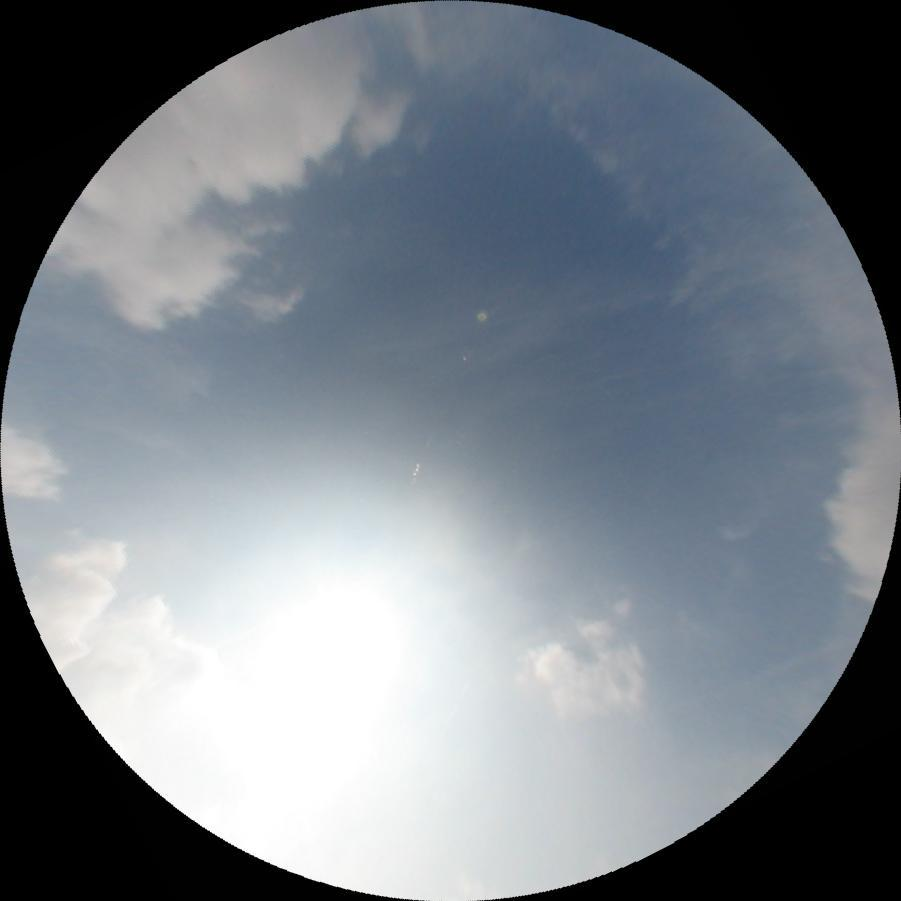sun: (227, 563, 456, 796)
